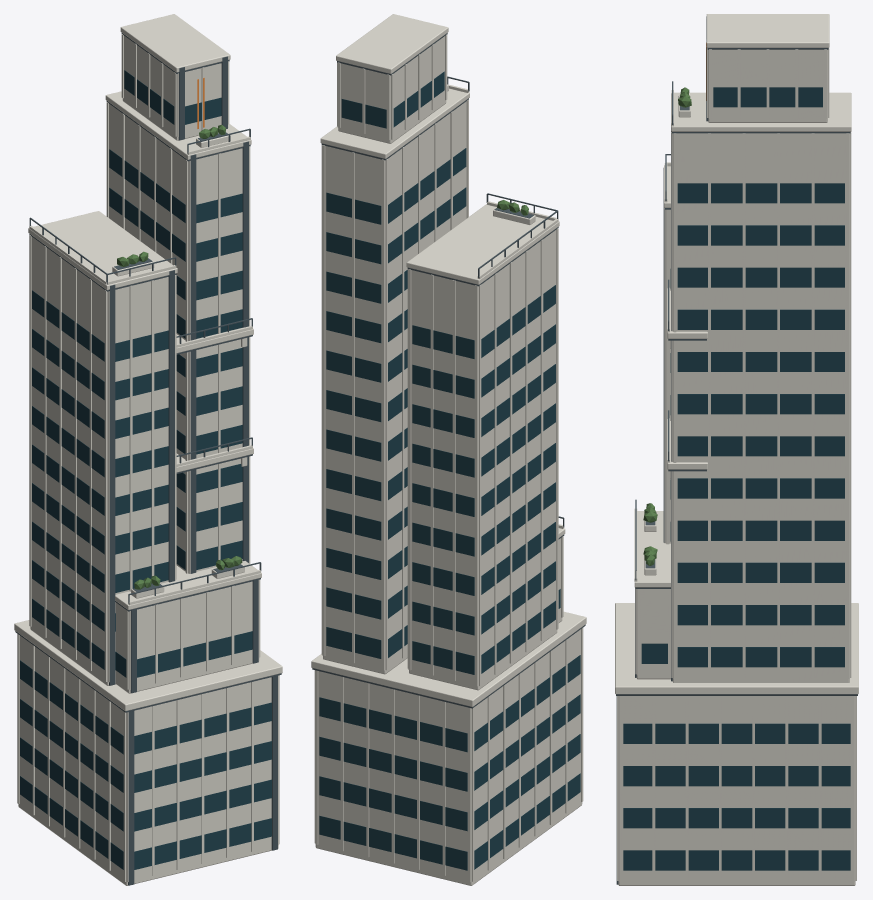
File: CityCornerTower.fbx
3 views of the same model, side by side, from view 1: azimuth 30°, elevation 25°; view 2: azimuth 150°, elevation 25°; view 3: azimuth 270°, elevation 25° (orthographic). The views are drawn at different scales.
Parts seen in each view (by area): view 1: CityCornerTower_SC_Concrete, CityCornerTower_SC_Glass, CityCornerTower_SC_Metal, CityCornerTower_SC_Foliage; view 2: CityCornerTower_SC_Concrete, CityCornerTower_SC_Glass, CityCornerTower_SC_Metal; view 3: CityCornerTower_SC_Concrete, CityCornerTower_SC_Glass, CityCornerTower_SC_Metal, CityCornerTower_SC_Foliage.
Boxes of the visible parts, x1,y1,x2,y2 form: CityCornerTower_SC_Concrete: [14, 14, 282, 885]; CityCornerTower_SC_Glass: [20, 70, 271, 869]; CityCornerTower_SC_Metal: [15, 33, 281, 885]; CityCornerTower_SC_Foliage: [117, 124, 242, 589]; CityCornerTower_SC_Concrete: [311, 14, 586, 885]; CityCornerTower_SC_Glass: [319, 71, 580, 870]; CityCornerTower_SC_Metal: [312, 33, 585, 708]; CityCornerTower_SC_Concrete: [615, 14, 858, 885]; CityCornerTower_SC_Glass: [623, 87, 850, 870]; CityCornerTower_SC_Metal: [616, 16, 857, 884]; CityCornerTower_SC_Foliage: [643, 87, 691, 565].
Size of the model in its own units: 18 by 83.6 by 22.
